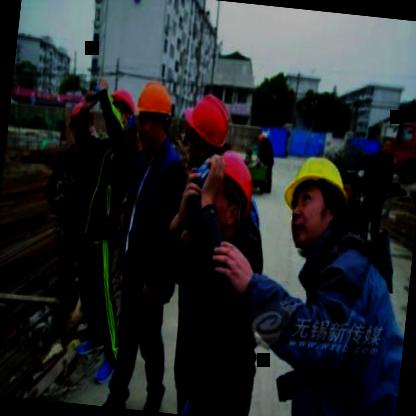head: (378, 132, 393, 156)
helmet: (276, 144, 356, 254), (199, 151, 256, 245), (174, 86, 236, 169), (128, 73, 176, 152), (64, 98, 100, 145), (106, 84, 136, 128)
